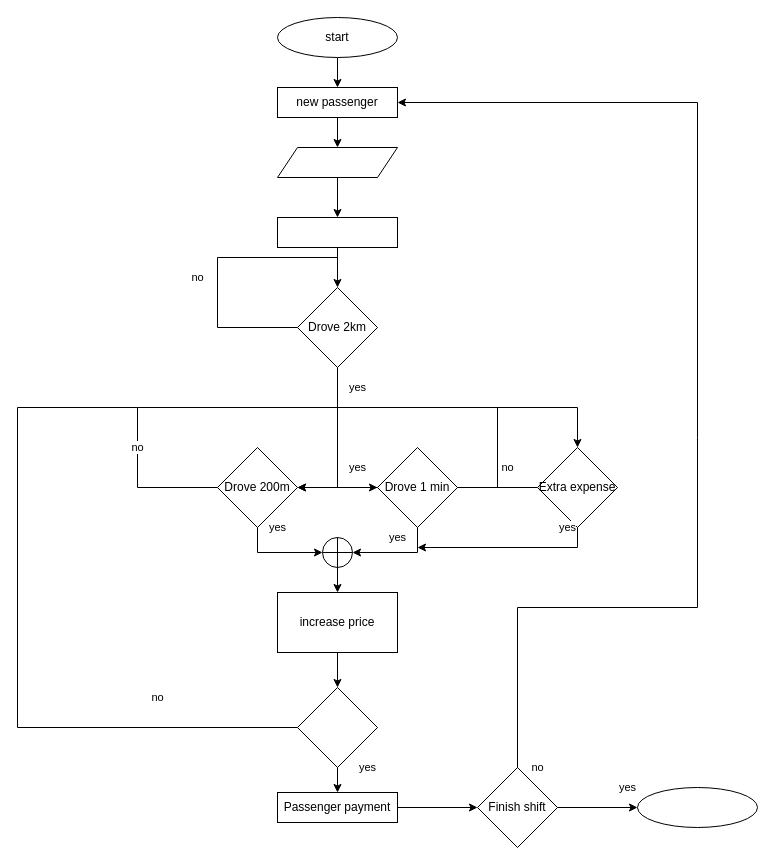
This 775x865 diagram has some shape labels left out. The shapes that lost their labels are listed below. From the top down, each one's centre as x and y in pixels, then its label:
At point (337, 162): "Get Destination".
At point (337, 232): "Leave orgin".
At point (337, 727): "Arrive destination".
At point (697, 807): "End".
